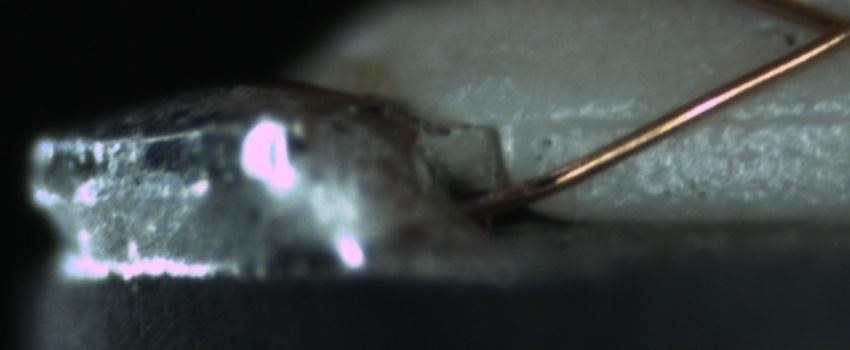CL: (775, 0, 850, 67)
DL: (530, 87, 850, 149)
